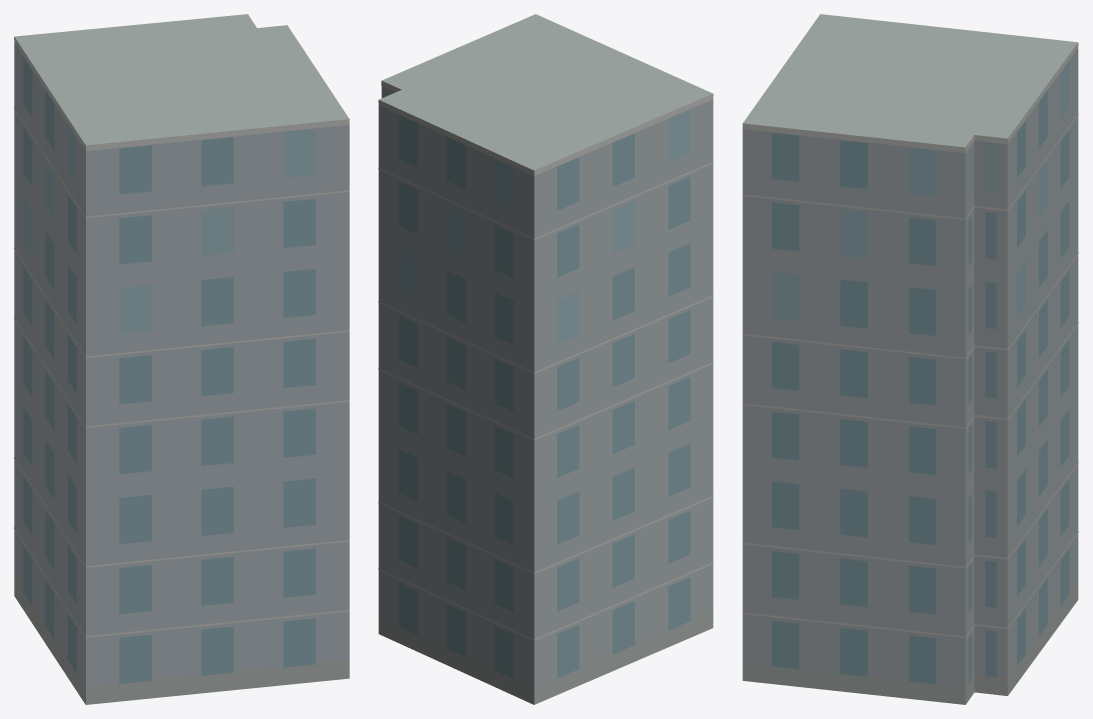
The model's file is survey-upis-33023891.glb.
3 views of the same model, side by side, from view 1: azimuth 30°, elevation 25°; view 2: azimuth 150°, elevation 25°; view 3: azimuth 270°, elevation 25° (orthographic). The views are drawn at different scales.
Parts seen in each view (by area): view 1: survey-upis-33023891.tmp; view 2: survey-upis-33023891.tmp; view 3: survey-upis-33023891.tmp.
Boxes of the visible parts, x1,y1,x2,y2 form: survey-upis-33023891.tmp: (14,14,349,704); survey-upis-33023891.tmp: (378,14,713,704); survey-upis-33023891.tmp: (742,14,1078,704).
Size of the model in its own units: 12.19 by 23.7 by 12.96.
